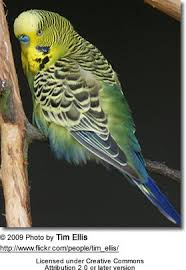budgie: (12, 10, 161, 194)
